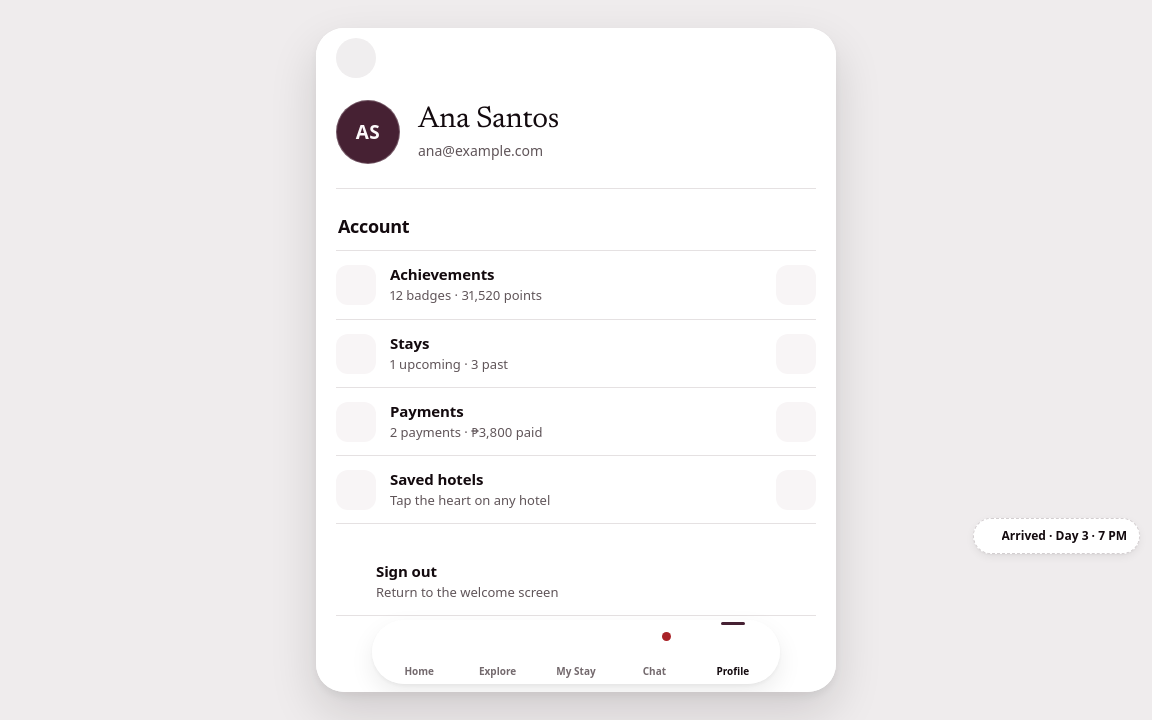
Test: the badge detail page › shows a badge not yet earned as its silhouette, without a coin
Click the button "Achievements 12 badges · 31,520 points".
click(356, 285)  # box [336, 251, 816, 319]
(page scrolled)
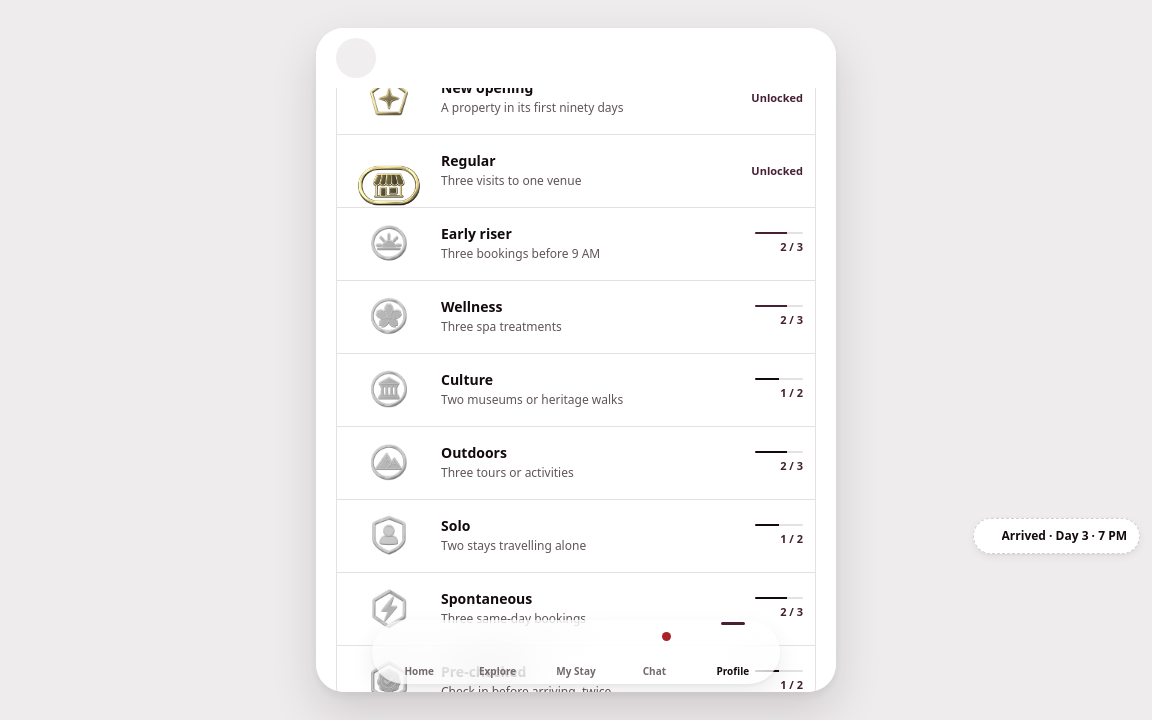
Click the button with aria-label "Culture —".
click(576, 390)  # box [337, 354, 815, 426]
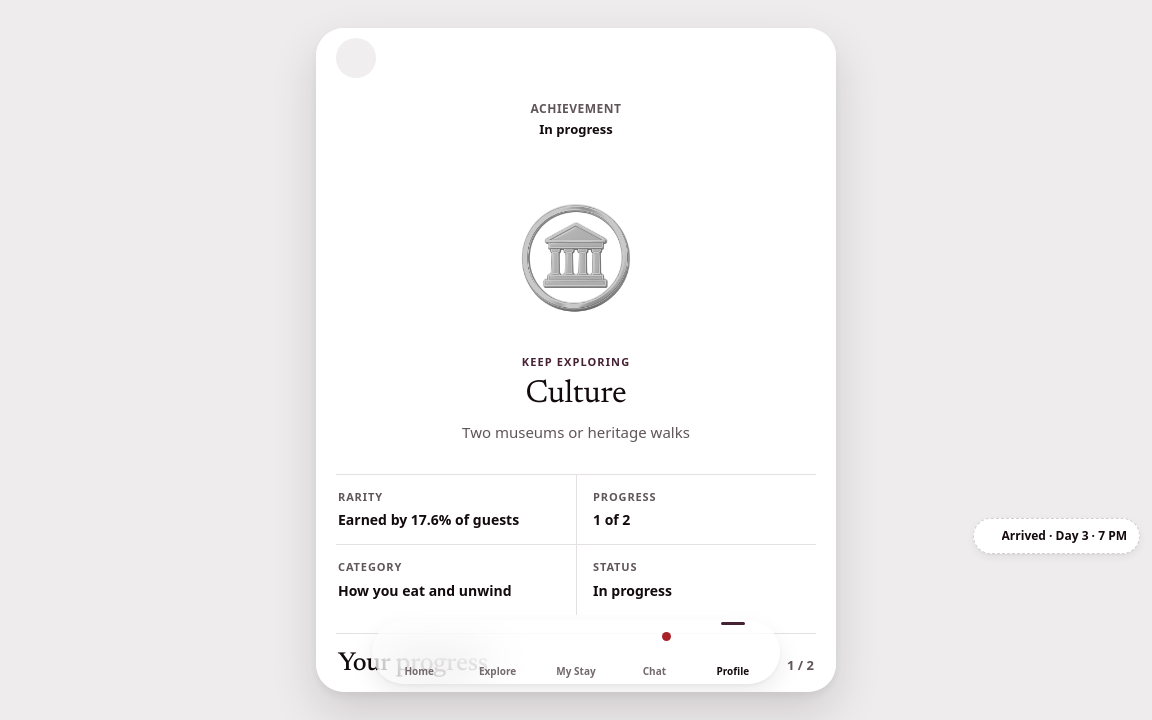
Check: the text "1 of 2" is shown, box [593, 510, 630, 529]
